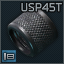HK USP Tactical thread protector: (0, 0, 64, 64)
